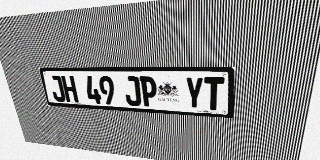4: (84, 76, 102, 104)
9: (98, 76, 116, 105)
H: (61, 75, 79, 103)
J: (123, 76, 142, 106), (48, 75, 66, 102)
P: (139, 76, 158, 107)
T: (204, 77, 224, 111)
Y: (185, 77, 204, 110)
